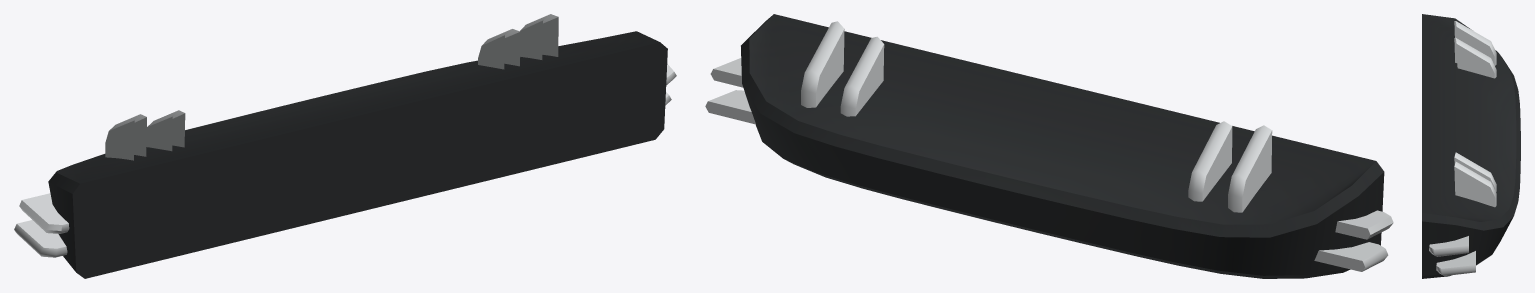
The model's file is Car_03_RearBumper_Cool.fbx.
The picture shows the model from 3 angles, left to right: view 1: azimuth 30°, elevation 25°; view 2: azimuth 150°, elevation 25°; view 3: azimuth 270°, elevation 25°; orthographic projection. The views are drawn at different scales.
Visible parts, largest first — view 1: Car_03_RearBumper_Cool; view 2: Car_03_RearBumper_Cool; view 3: Car_03_RearBumper_Cool.
Boxes of the visible parts, left/top/right/bottom form: Car_03_RearBumper_Cool: left=14, top=14, right=676, bottom=278; Car_03_RearBumper_Cool: left=705, top=14, right=1393, bottom=278; Car_03_RearBumper_Cool: left=1422, top=14, right=1520, bottom=278.
Bounding box in the file's own units: 201 × 38.57 × 38.65.
